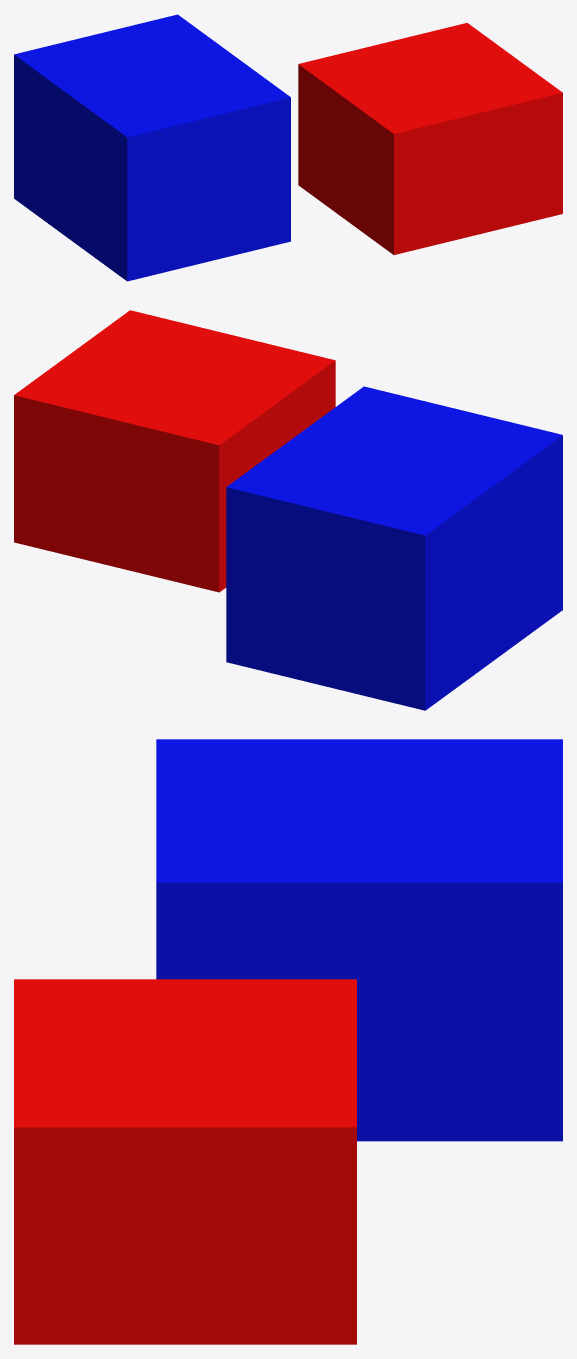
Rendered from OCAnimacao2Cubos.DAE.
3 renders of one model, top to bottom at view 1: azimuth 30°, elevation 25°; view 2: azimuth 150°, elevation 25°; view 3: azimuth 270°, elevation 25°, orthographic. The views are drawn at different scales.
Parts seen in each view (by area): view 1: Box01, Box02; view 2: Box01, Box02; view 3: Box01, Box02.
Part boxes in pixels (bbox=[...]): Box01: bbox=[14, 14, 290, 281]; Box02: bbox=[298, 23, 562, 254]; Box01: bbox=[226, 386, 562, 710]; Box02: bbox=[14, 310, 335, 592]; Box01: bbox=[156, 739, 562, 1141]; Box02: bbox=[14, 979, 356, 1344].
Size of the model in its own units: 40.41 by 27.04 by 14.06.
